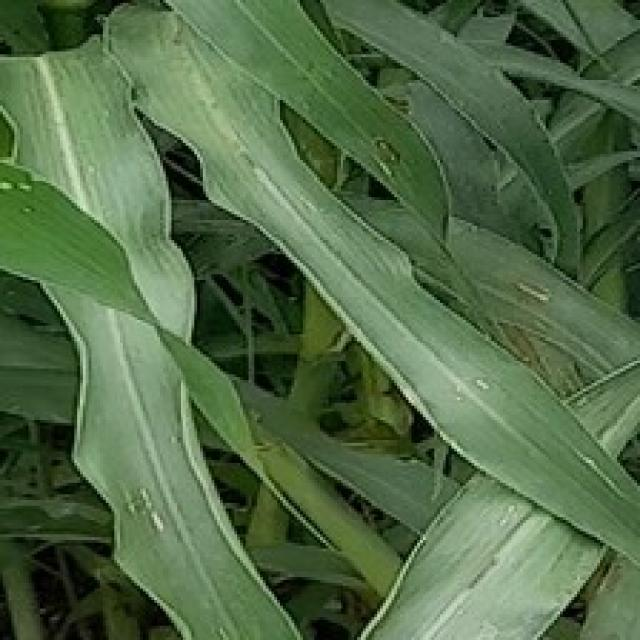Corn: (0, 0, 637, 637), (0, 32, 317, 637)
